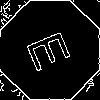E: (25, 25, 81, 74)
